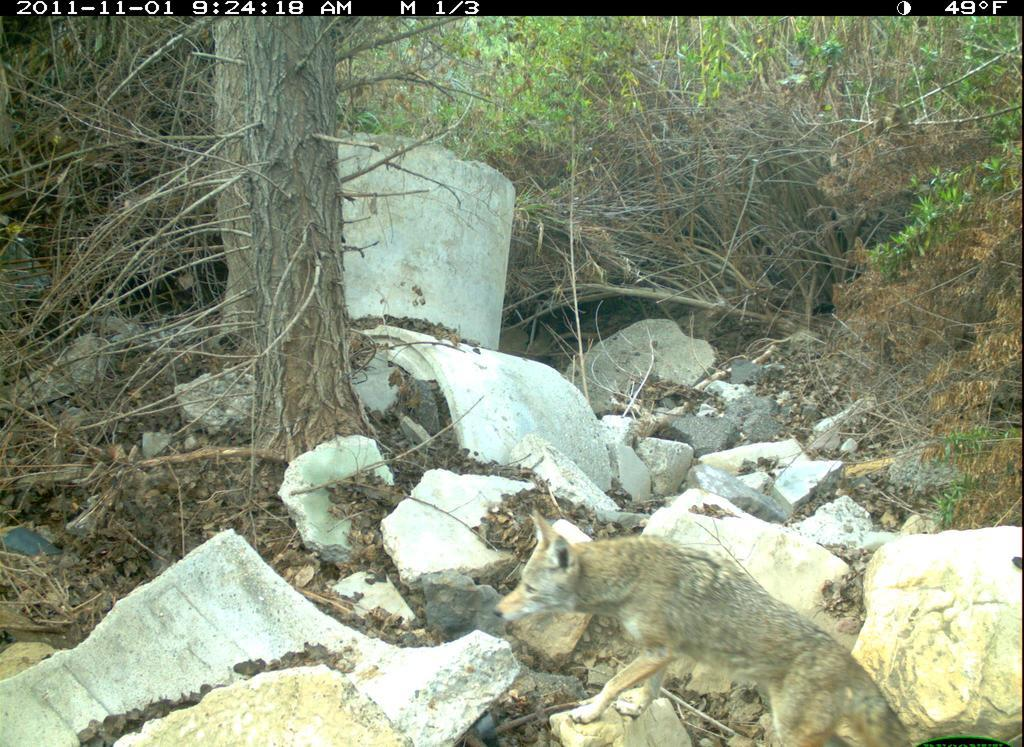coyote: (489, 510, 913, 744)
